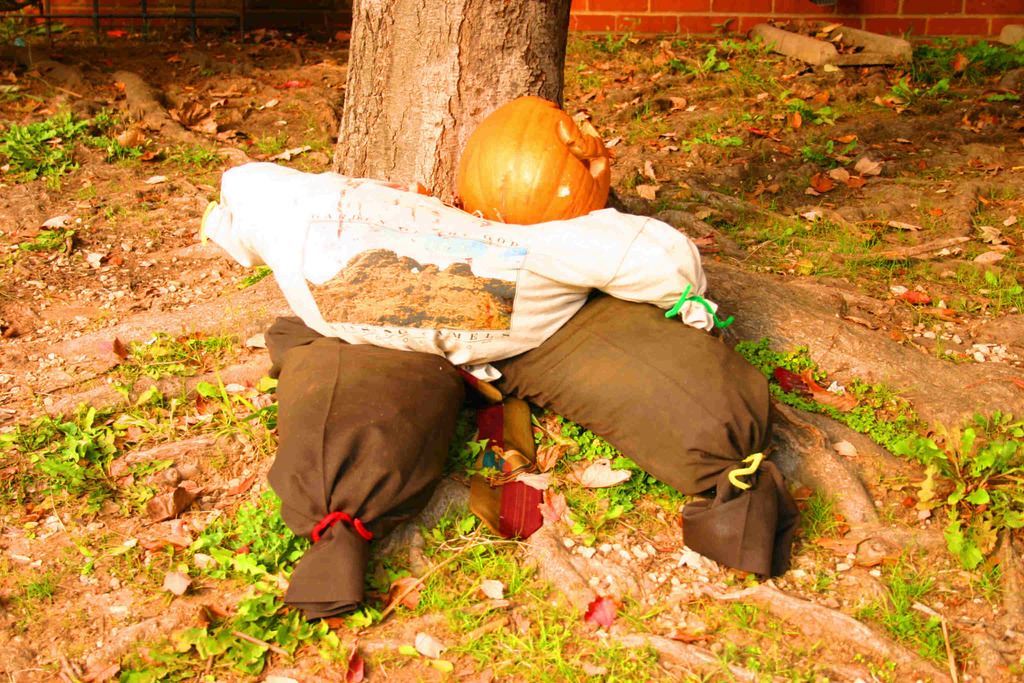Tree: (330, 0, 572, 205)
